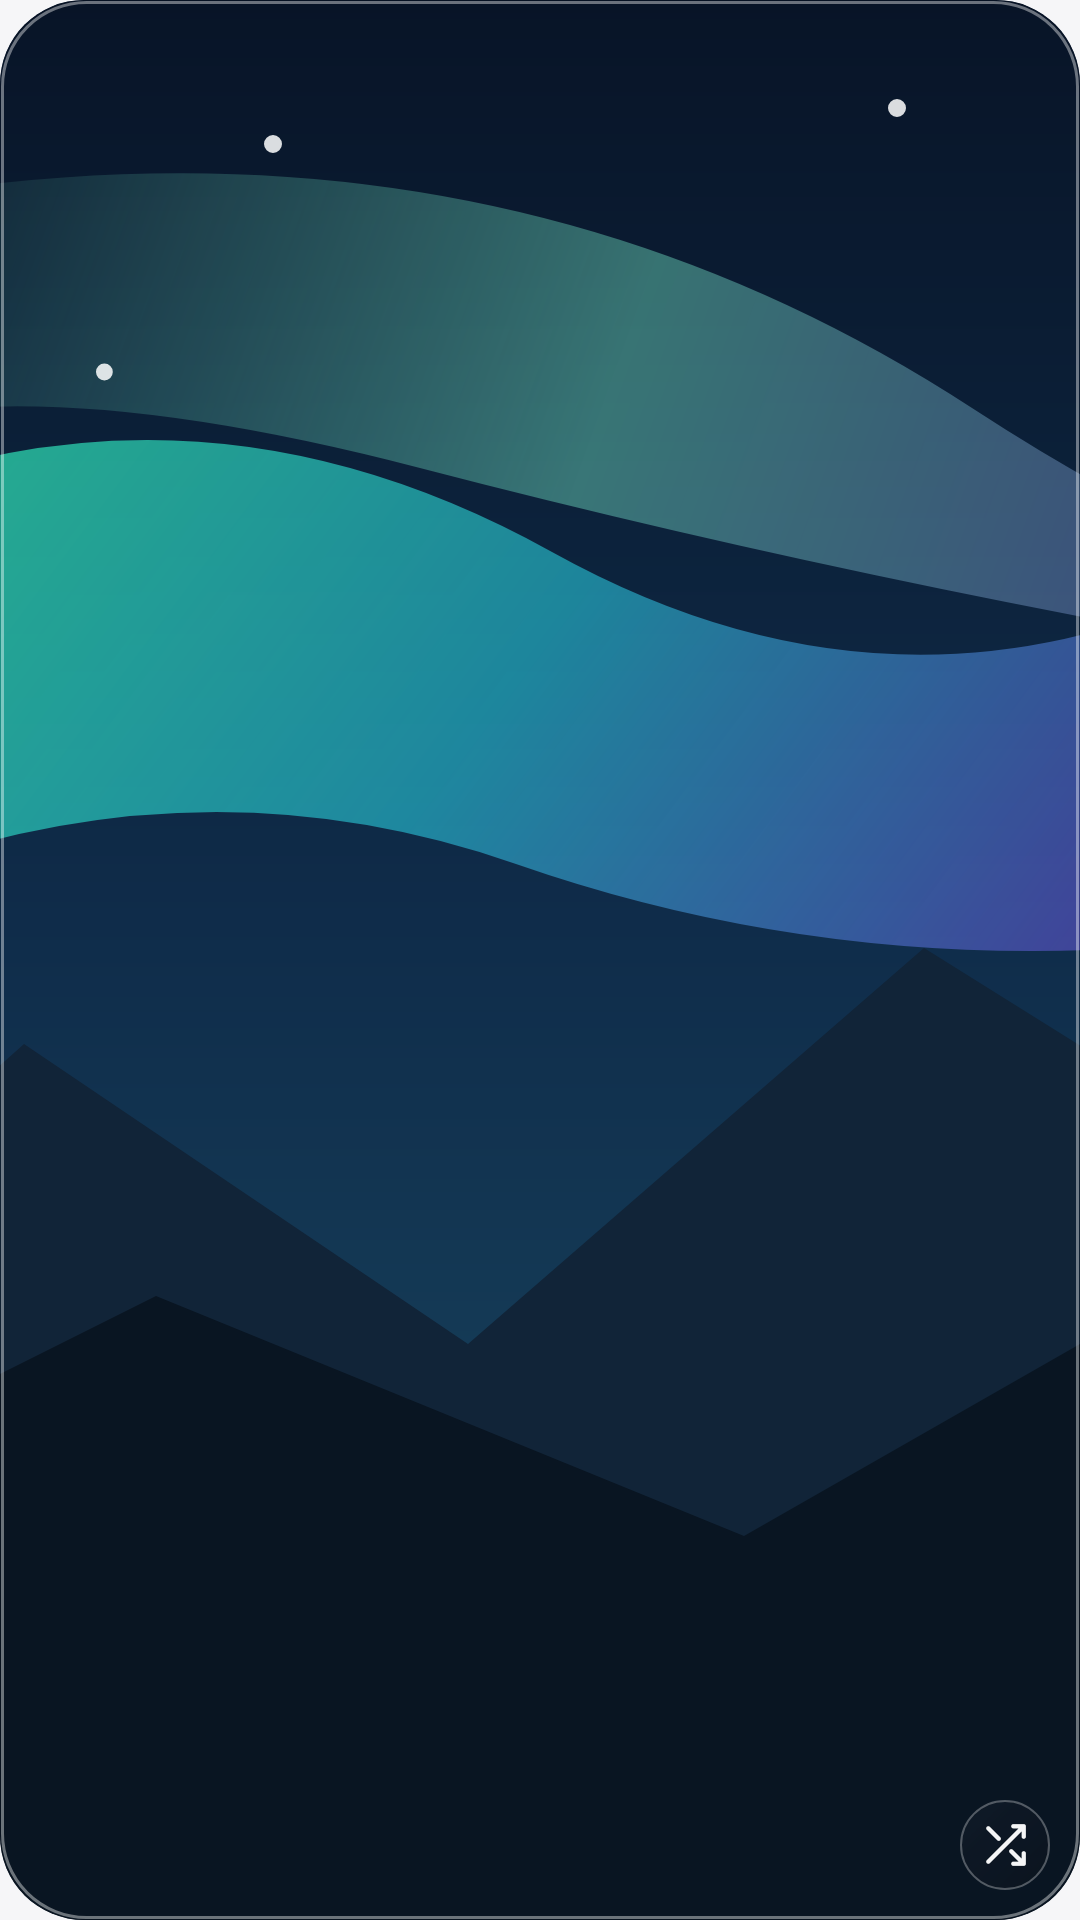

Icons on this 1080*1920 Android screen, each with its box as BBox(x1, y1, x2, y2):
Shuffle next: BBox(960, 1800, 1050, 1890)
